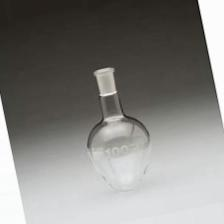Pear shaped flask: (85, 63, 153, 193)
